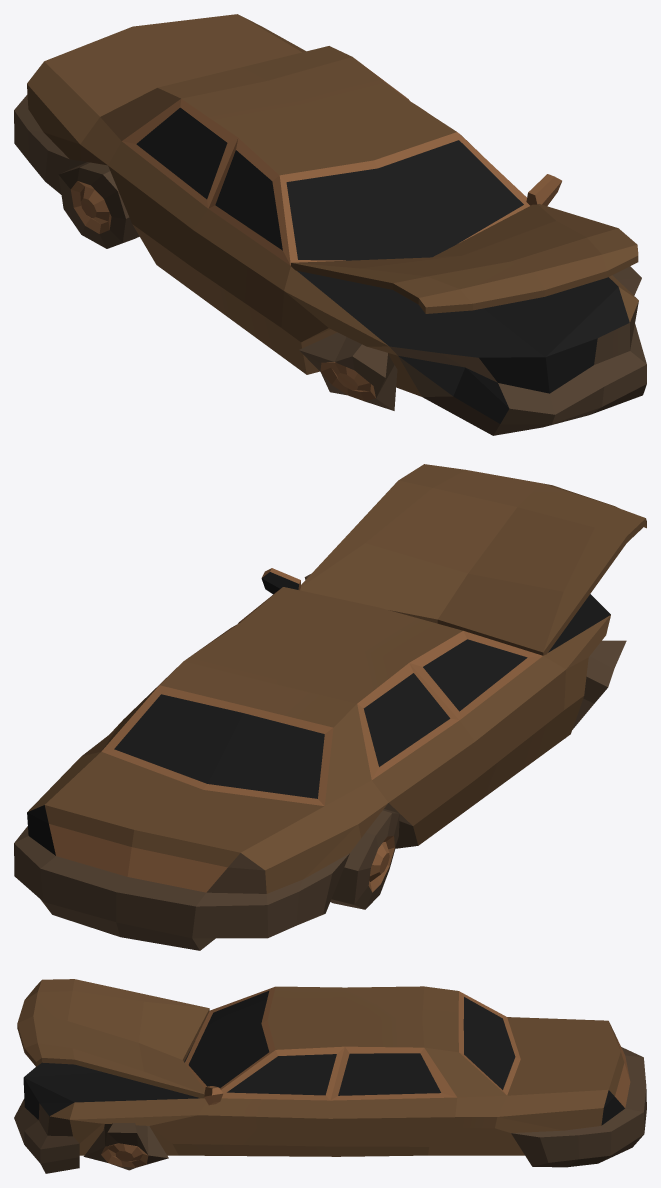
Rendered from apocalypse_car-destroyed-apocalypse-b.fbx.
3 views of the same model, one above another, from view 1: azimuth 30°, elevation 25°; view 2: azimuth 150°, elevation 25°; view 3: azimuth 270°, elevation 25° (orthographic). The views are drawn at different scales.
Parts seen in each view (by area): view 1: apocalypse_car_destroyed_apocalypse_b; view 2: apocalypse_car_destroyed_apocalypse_b; view 3: apocalypse_car_destroyed_apocalypse_b.
Boxes of the visible parts, box(x1,y1,x2,y2) form: apocalypse_car_destroyed_apocalypse_b: box(14, 14, 646, 435); apocalypse_car_destroyed_apocalypse_b: box(14, 464, 646, 950); apocalypse_car_destroyed_apocalypse_b: box(14, 979, 646, 1173).
Bounding box in the file's own units: 83.6 × 40.85 × 200.
